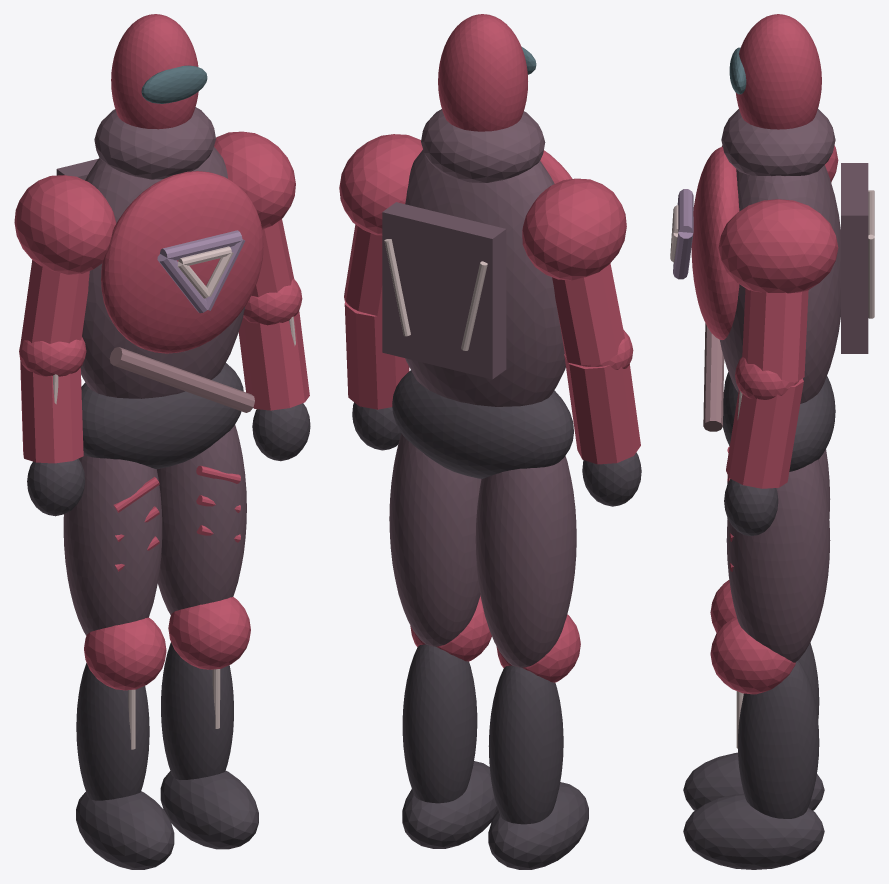
Rendered from shoaix_prototype.glb.
3 views of the same model, side by side, from view 1: azimuth 30°, elevation 25°; view 2: azimuth 150°, elevation 25°; view 3: azimuth 270°, elevation 25° (orthographic). The views are drawn at different scales.
Visible parts, largest first — view 1: chest, thigh_-1, thigh_1, hip, arm_-1, torso, shoulder_-1, shin_-1, shin_1, arm_1, helmet, collar (+13 smaller); view 2: back_plate, thigh_-1, torso, thigh_1, hip, arm_-1, shin_1, shin_-1, helmet, shoulder_-1, arm_1, collar (+10 smaller); view 3: thigh_1, arm_1, shin_1, shoulder_1, torso, helmet, foot_1, chest, collar, back_plate, knee_1, hip (+9 smaller).
Boxes of the visible parts, x1=… form: chest: x1=101, y1=171, x2=263, y2=353; thigh_-1: x1=63, y1=455, x2=162, y2=635; thigh_1: x1=157, y1=425, x2=246, y2=614; hip: x1=81, y1=363, x2=243, y2=469; arm_-1: x1=20, y1=260, x2=89, y2=463; torso: x1=80, y1=147, x2=245, y2=398; shoulder_-1: x1=14, y1=175, x2=116, y2=274; shin_-1: x1=76, y1=663, x2=149, y2=800; shin_1: x1=161, y1=642, x2=233, y2=779; arm_1: x1=238, y1=219, x2=309, y2=410; helmet: x1=111, y1=14, x2=198, y2=129; collar: x1=94, y1=107, x2=215, y2=179; back_plate: x1=382, y1=202, x2=506, y2=379; thigh_-1: x1=475, y1=456, x2=576, y2=667; torso: x1=405, y1=150, x2=565, y2=406; thigh_1: x1=389, y1=433, x2=481, y2=646; hip: x1=392, y1=370, x2=573, y2=478; arm_-1: x1=552, y1=263, x2=640, y2=464; shin_1: x1=402, y1=644, x2=477, y2=803; shin_-1: x1=488, y1=665, x2=563, y2=824; helmet: x1=438, y1=14, x2=527, y2=131; shoulder_-1: x1=522, y1=178, x2=626, y2=280; arm_1: x1=344, y1=224, x2=409, y2=409; collar: x1=421, y1=109, x2=545, y2=182; thigh_1: x1=726, y1=459, x2=830, y2=662; arm_1: x1=726, y1=288, x2=808, y2=488; shin_1: x1=738, y1=660, x2=819, y2=818; shoulder_1: x1=718, y1=199, x2=838, y2=293; torso: x1=720, y1=165, x2=840, y2=403; helmet: x1=736, y1=14, x2=821, y2=129; foot_1: x1=683, y1=793, x2=824, y2=869; chest: x1=691, y1=147, x2=739, y2=339; collar: x1=721, y1=109, x2=835, y2=176; back_plate: x1=841, y1=163, x2=868, y2=353; knee_1: x1=710, y1=617, x2=795, y2=694; hip: x1=723, y1=376, x2=835, y2=471.
Size of the model in its own units: 0.5943 by 1.68 by 0.376.
